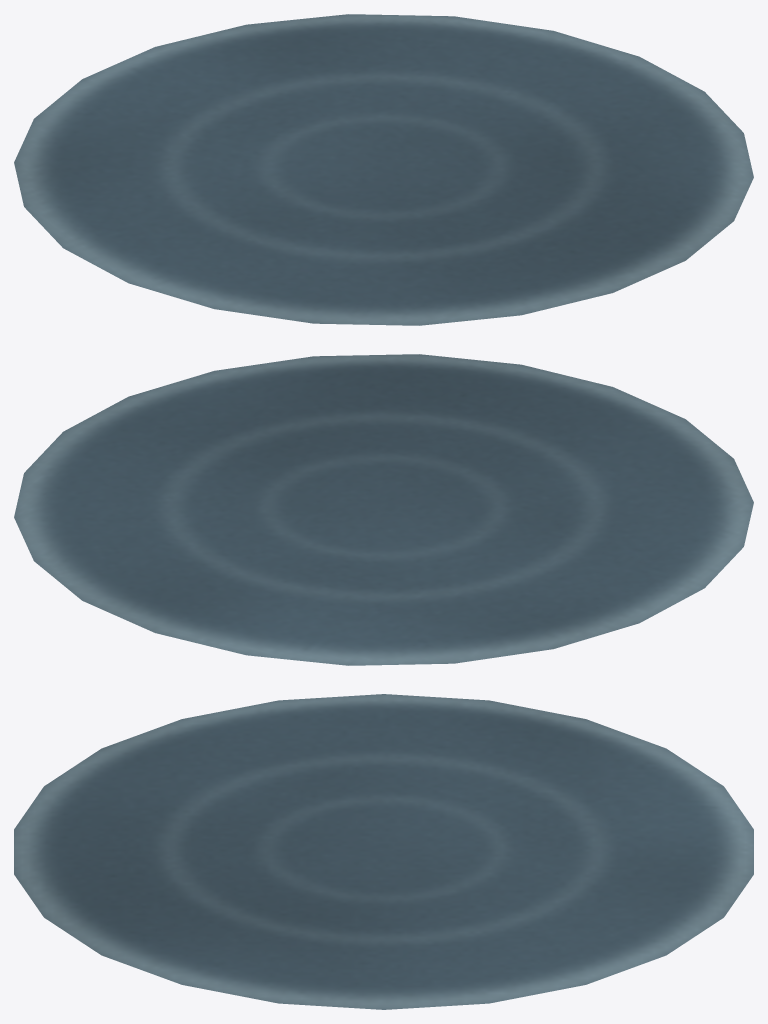
File: pot_fill_water.glb
3 views of the same model, one above another, from view 1: azimuth 30°, elevation 25°; view 2: azimuth 150°, elevation 25°; view 3: azimuth 270°, elevation 25° (orthographic).
Visible parts, largest first — view 1: POT_FILL_WATER; view 2: POT_FILL_WATER; view 3: POT_FILL_WATER.
Part boxes in pixels (x1,y1,x2,y2): POT_FILL_WATER: (14,14,753,325); POT_FILL_WATER: (14,354,753,665); POT_FILL_WATER: (14,694,753,1009).
Bounding box in the file's own units: 0.279 × 0.0192 × 0.2762.
Materials: 1 (1 with a texture image).
